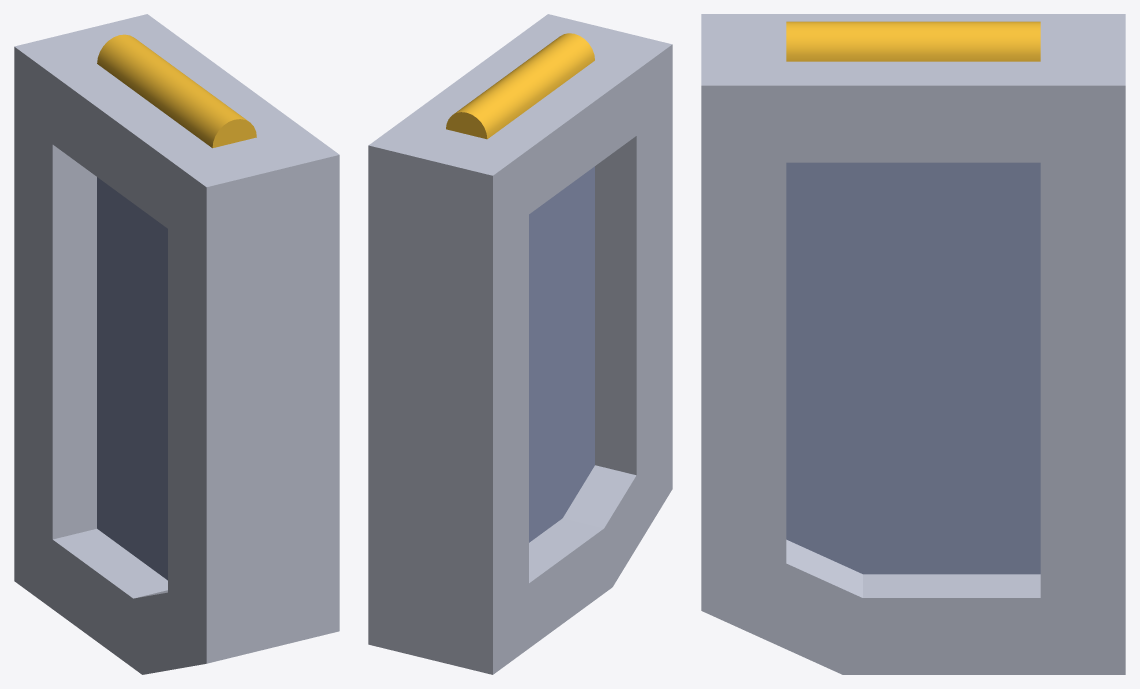
File: clipA.glb
3 renders of one model, left to right at view 1: azimuth 30°, elevation 25°; view 2: azimuth 150°, elevation 25°; view 3: azimuth 270°, elevation 25°, orthographic. The views are drawn at different scales.
Visible parts, largest first — view 1: clipA; view 2: clipA; view 3: clipA.
Boxes of the visible parts, box(x1,y1,x2,y2) form: clipA: box(14, 14, 339, 674); clipA: box(368, 14, 672, 674); clipA: box(701, 14, 1125, 674).
Size of the model in its own units: 0.06 by 0.24 by 0.15.
